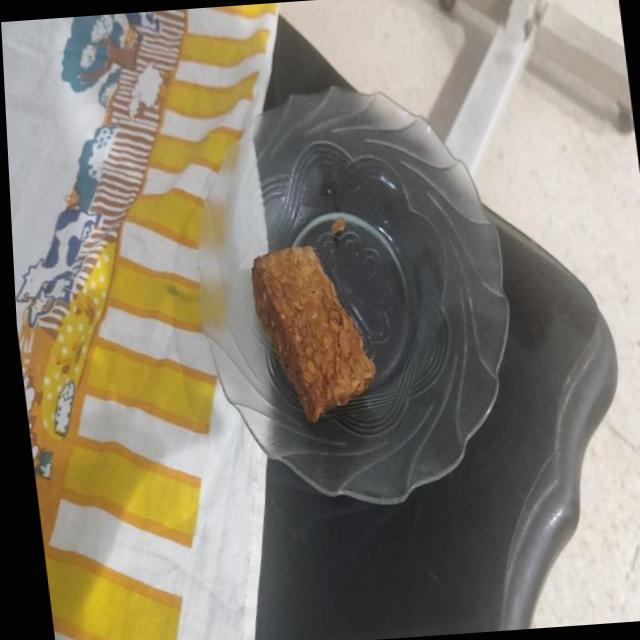tempe_goreng: (252, 246, 374, 422)
